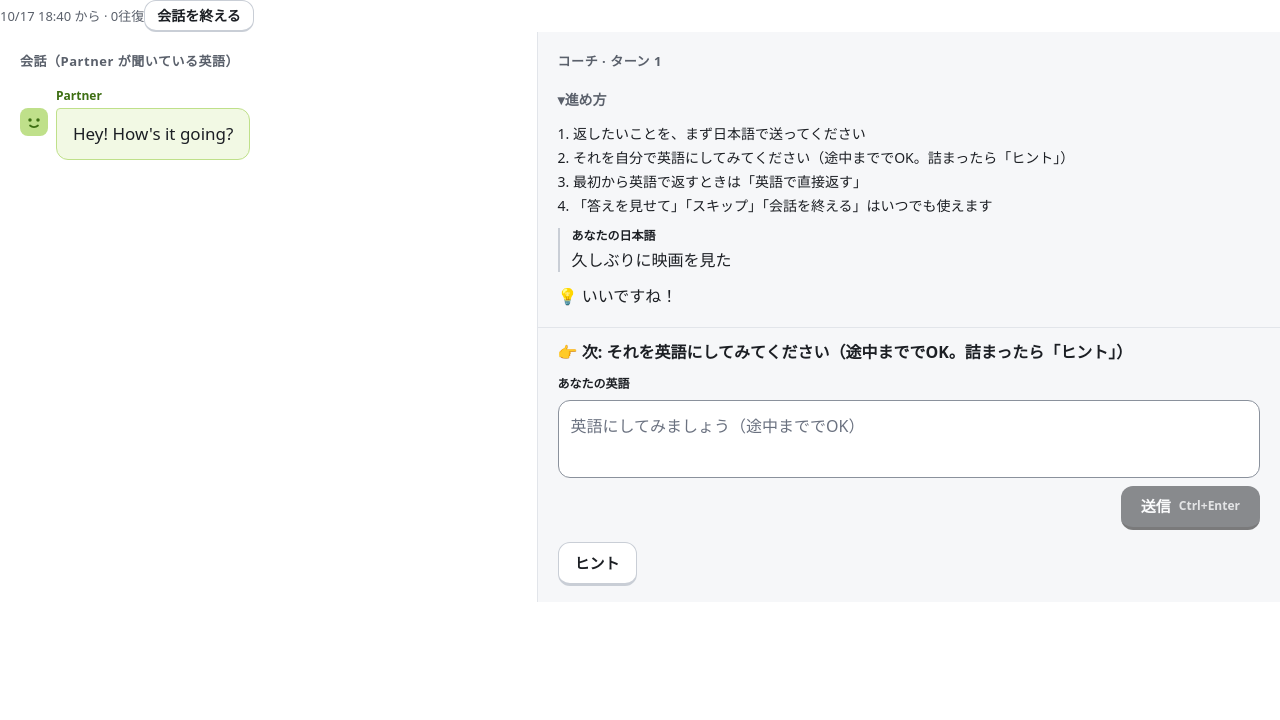
Test case: Composer on the conversation screen (REQ-005) › shows a hint's 422 under the gap field and keeps both texts
The image size is (1280, 720).
Type "I watched" into the text box labelled "あなたの英語" at (909, 439), box [558,400,1260,478]
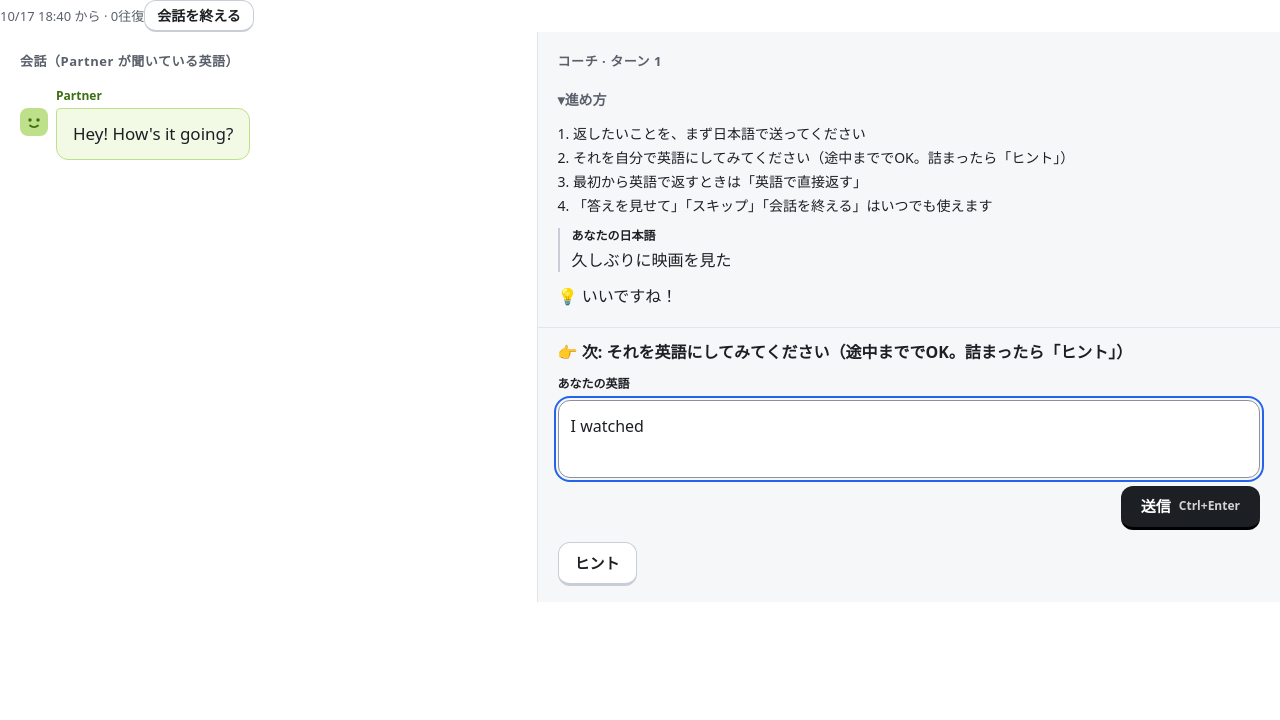
Click the button "ヒント" at (597, 564), box [558,542,637,586]
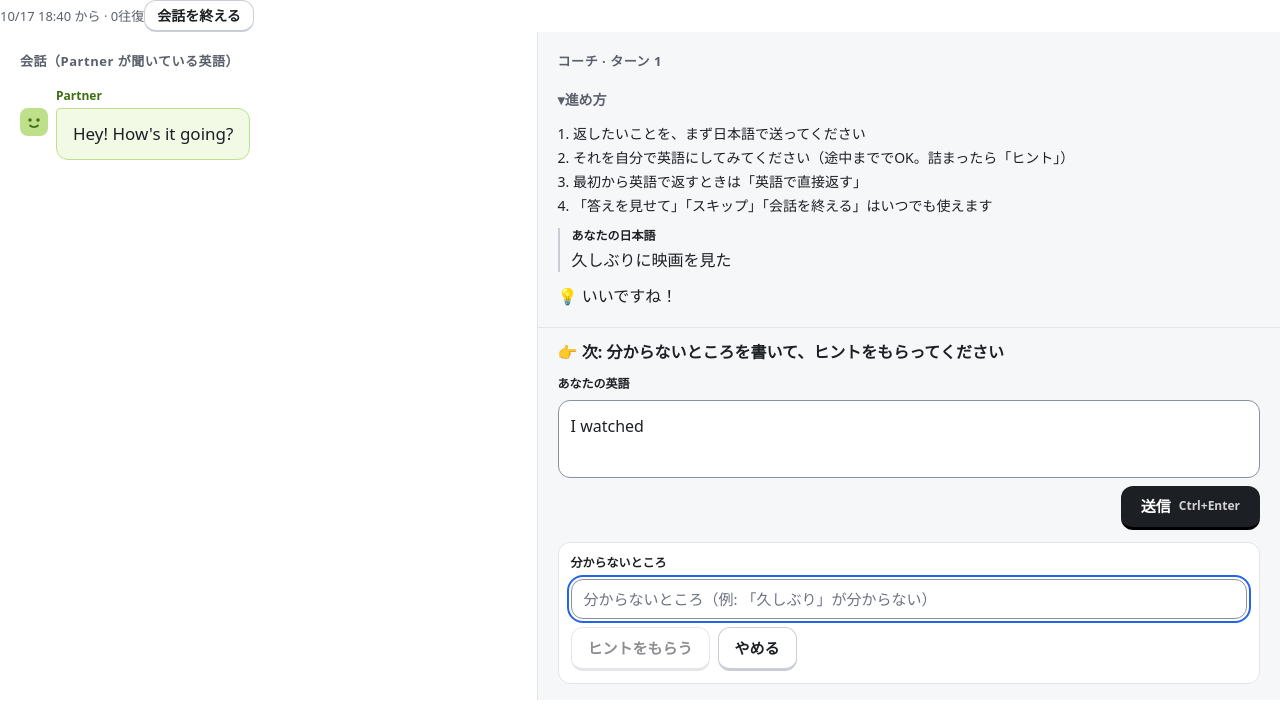
Type "久しぶり" into the field labelled "分からないところ" at (909, 599), box [571,579,1247,619]
Then press Enter
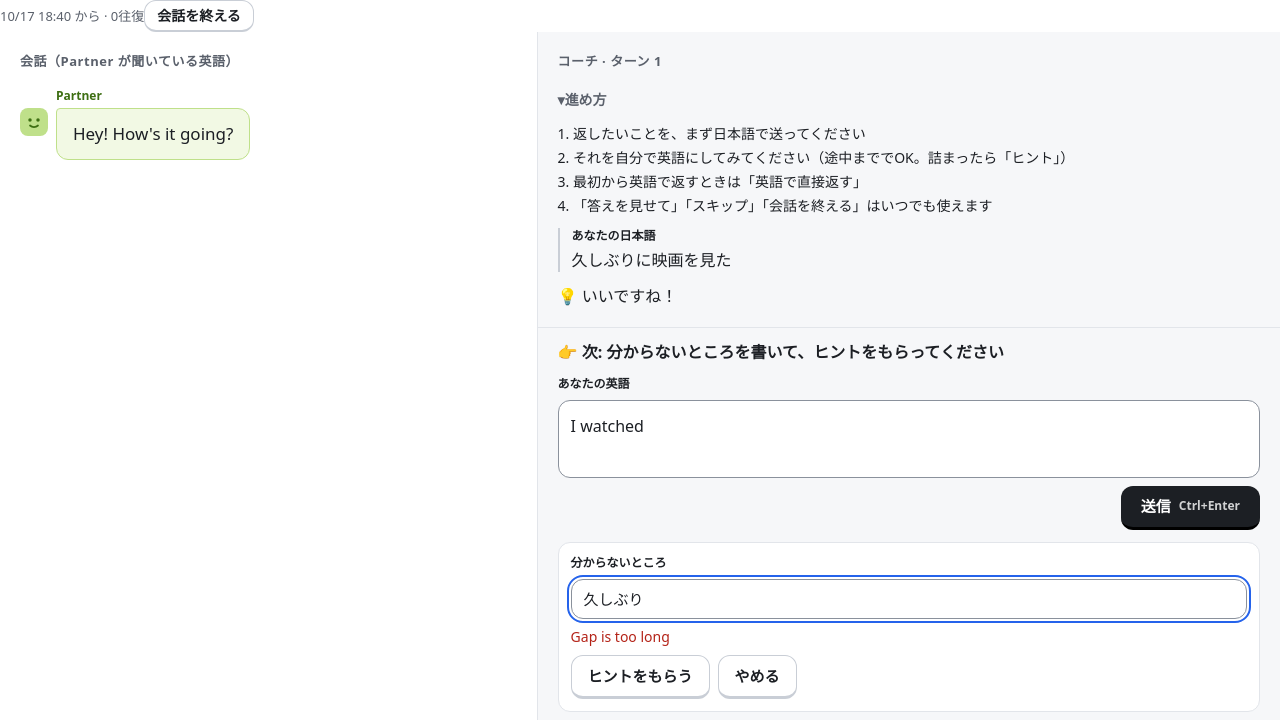
Expected: the message "Gap is too long" is shown, [571,627,670,646]
